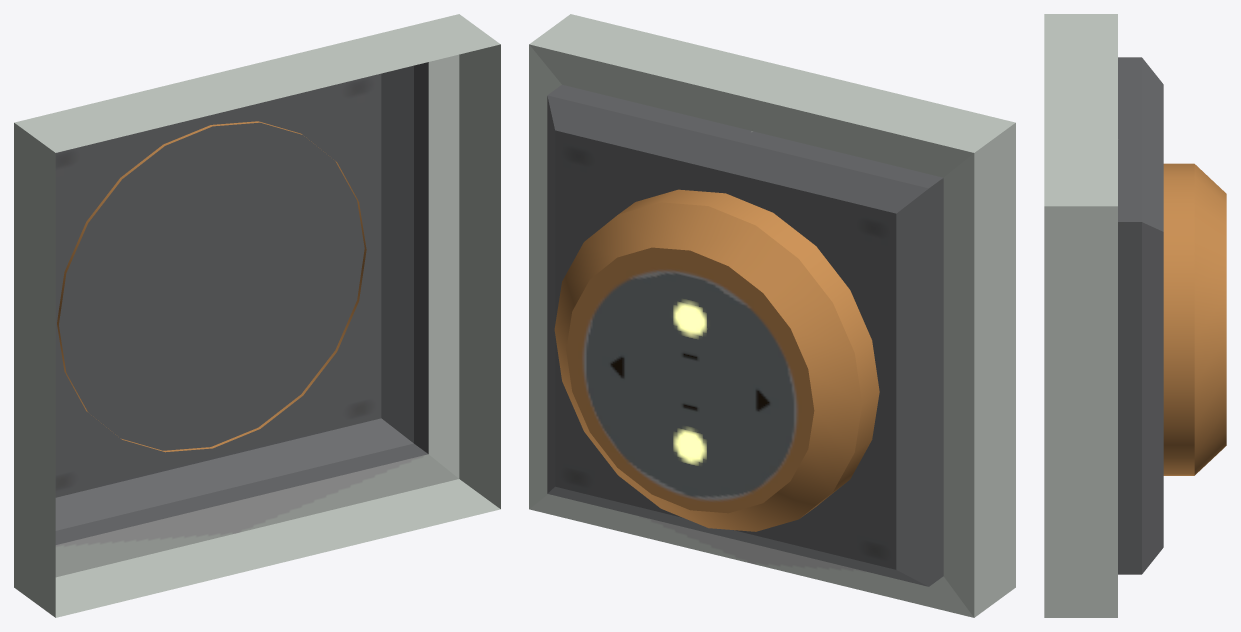
File: Wall_Ornament__6.fbx
The picture shows the model from 3 angles, left to right: view 1: azimuth 30°, elevation 25°; view 2: azimuth 150°, elevation 25°; view 3: azimuth 270°, elevation 25°; orthographic projection. The views are drawn at different scales.
Visible parts, largest first — view 1: Wall_Ornament; view 2: Wall_Ornament; view 3: Wall_Ornament.
Part boxes in pixels (x1,y1,x2,y2): Wall_Ornament: (14,14,500,617); Wall_Ornament: (529,14,1015,617); Wall_Ornament: (1044,14,1226,617).
Bounding box in the file's own units: 1.49 × 1.48 × 0.5959.
1 material, 1 textured.
